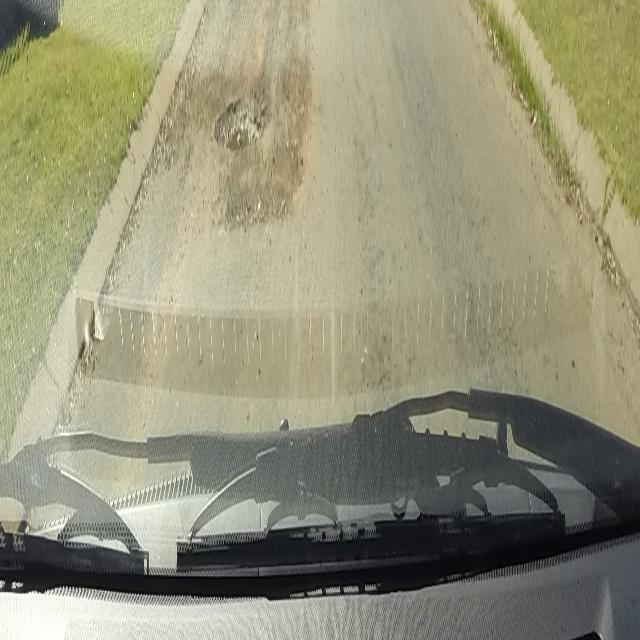pothole: (212, 90, 269, 154), (287, 0, 327, 20)
